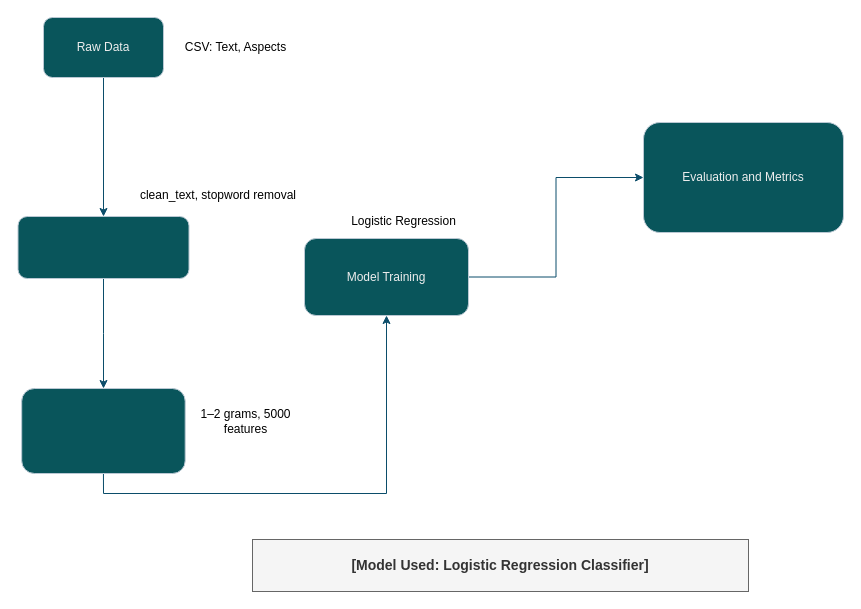
The diagram is 861 pixels wide and 609 high, and some of its shapes have lost their labels. Here are the shapes that lost their labels. From the top down, the centre of each, then its label:
[103,247]: Preprocessing
[103,431]: Vectorization using TF-IDF
